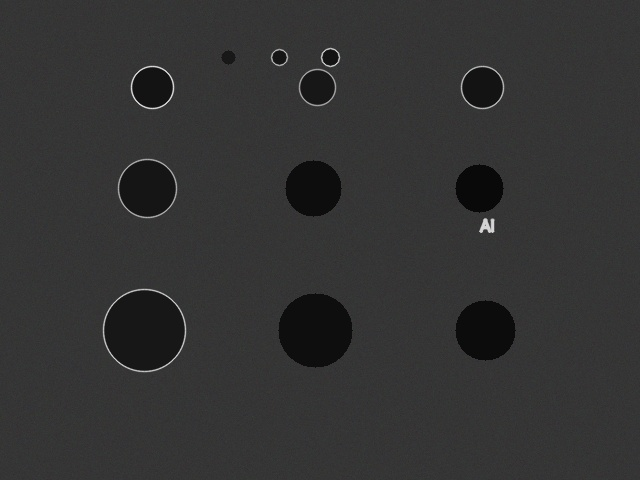hole: (103, 289, 185, 371), (278, 293, 352, 367), (455, 300, 515, 360), (118, 159, 176, 217), (285, 160, 341, 216), (455, 164, 503, 212), (131, 66, 173, 108), (461, 66, 503, 108), (299, 69, 335, 105), (321, 48, 339, 66), (271, 49, 287, 65), (221, 50, 235, 64)
